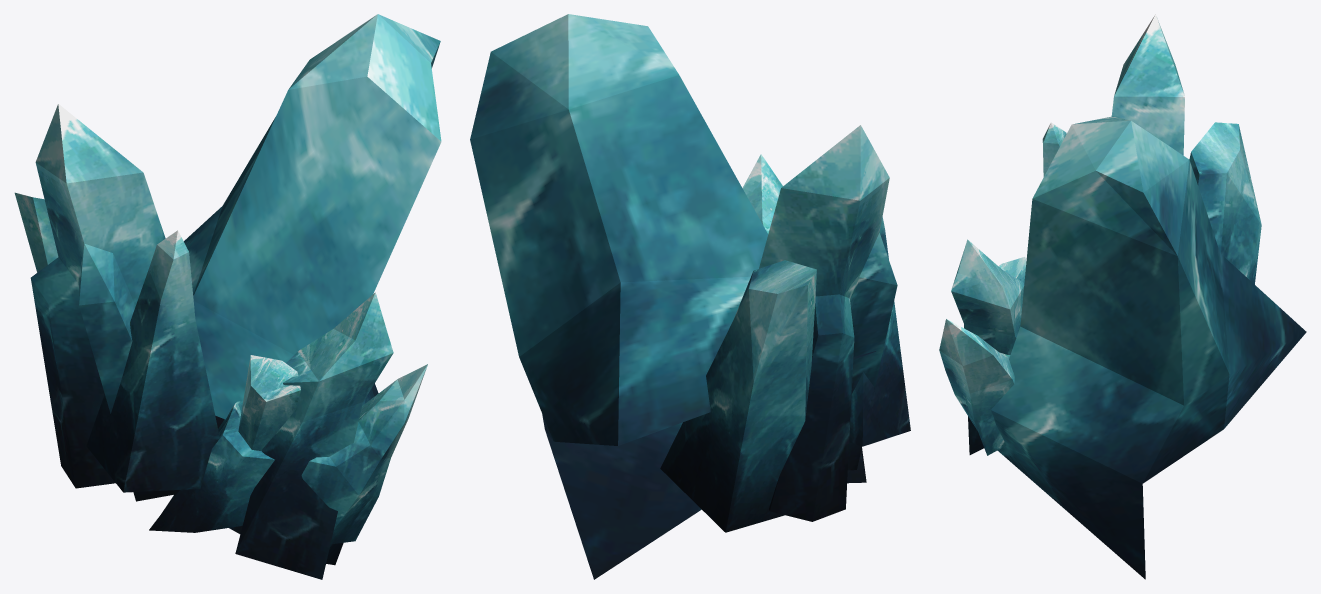
The model's file is environment_stone_shuijing_001_a.FBX.
The picture shows the model from 3 angles, left to right: view 1: azimuth 30°, elevation 25°; view 2: azimuth 150°, elevation 25°; view 3: azimuth 270°, elevation 25°; orthographic projection. The views are drawn at different scales.
Parts seen in each view (by area): view 1: environment_stone_shuijing_001_a; view 2: environment_stone_shuijing_001_a; view 3: environment_stone_shuijing_001_a.
Part boxes in pixels (bbox=[...]): environment_stone_shuijing_001_a: bbox=[14, 14, 441, 579]; environment_stone_shuijing_001_a: bbox=[470, 14, 910, 579]; environment_stone_shuijing_001_a: bbox=[939, 14, 1306, 579].
Size of the model in its own units: 165 by 223 by 157.
Materials: 1 (1 with a texture image).
